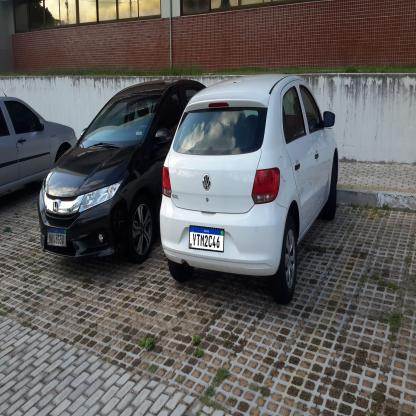PlacaM: (189, 225, 224, 252), (47, 227, 66, 247)
